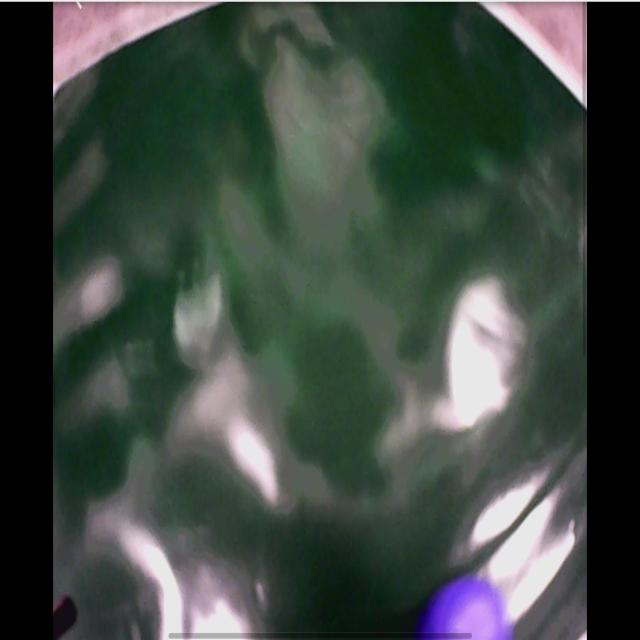ball: (427, 579, 512, 640)
